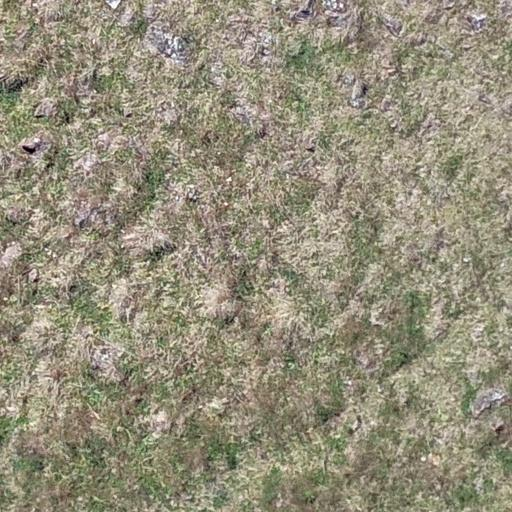stone: (467, 390, 512, 412), (21, 133, 58, 155), (466, 10, 493, 32), (349, 77, 369, 105), (34, 96, 60, 116)
